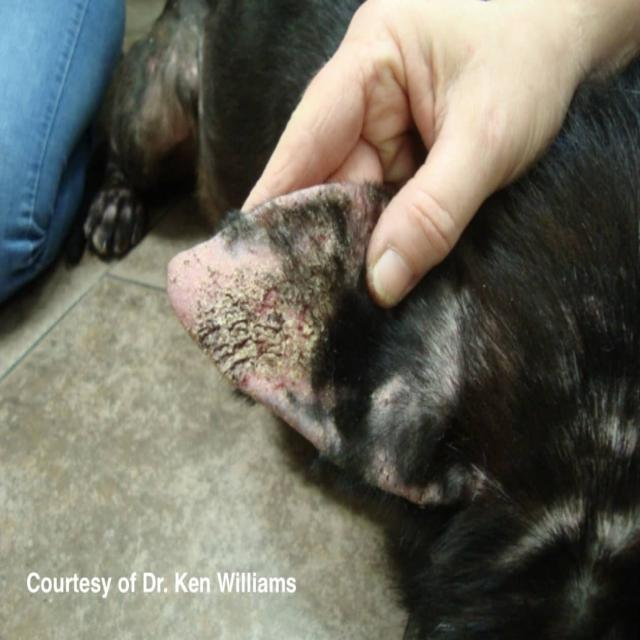mange: (136, 181, 363, 440)
